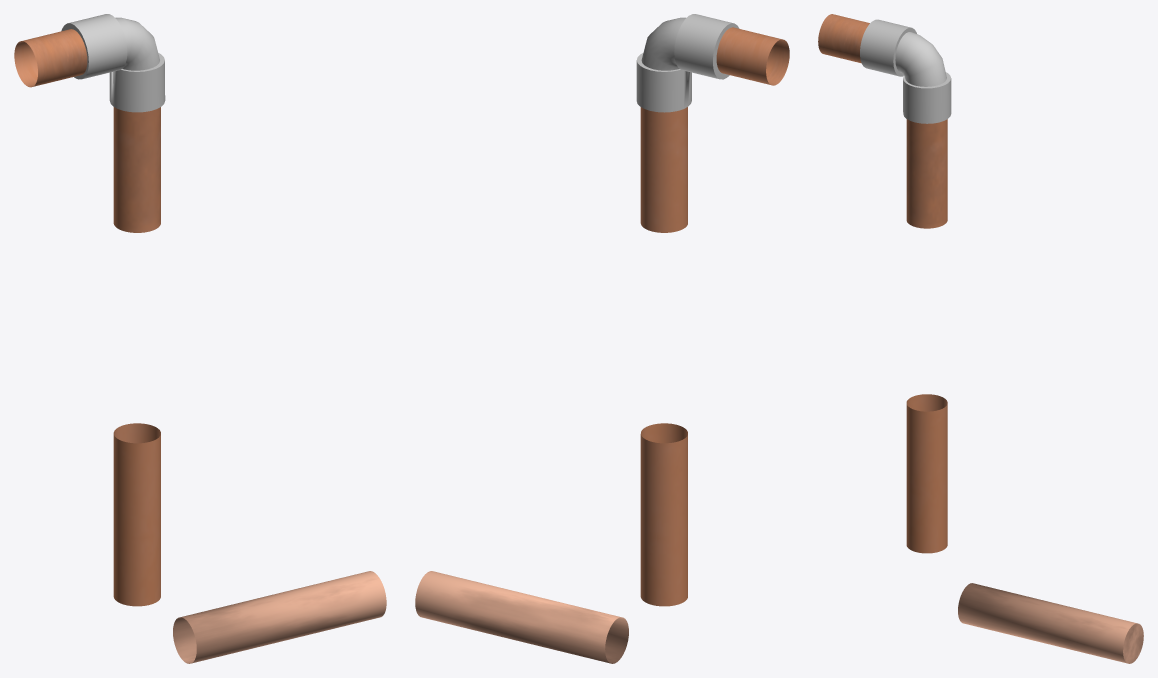
File: Switch Valve Pipe.fbx
3 views of the same model, side by side, from view 1: azimuth 30°, elevation 25°; view 2: azimuth 150°, elevation 25°; view 3: azimuth 330°, elevation 25° (orthographic). The views are drawn at different scales.
Parts seen in each view (by area): view 1: Hot Water, Pipe 26, Elbow.006, Pipe 2, Pipe 5; view 2: Hot Water, Pipe 26, Elbow.006, Pipe 2, Pipe 5; view 3: Hot Water, Pipe 26, Elbow.006, Pipe 2, Pipe 5.
Part boxes in pixels (x1,y1,x2,y2): Hot Water: [173, 571, 386, 663]; Pipe 26: [113, 423, 160, 606]; Elbow.006: [61, 14, 165, 112]; Pipe 2: [113, 107, 160, 232]; Pipe 5: [14, 29, 87, 87]; Hot Water: [415, 571, 628, 663]; Pipe 26: [640, 423, 687, 606]; Elbow.006: [636, 14, 739, 112]; Pipe 2: [640, 107, 687, 232]; Pipe 5: [716, 27, 789, 85]; Hot Water: [958, 583, 1143, 663]; Pipe 26: [906, 394, 947, 553]; Elbow.006: [860, 19, 951, 123]; Pipe 2: [906, 119, 947, 228]; Pipe 5: [818, 14, 869, 63].
Bounding box in the file's own units: 36.85 × 66.87 × 5.28.
